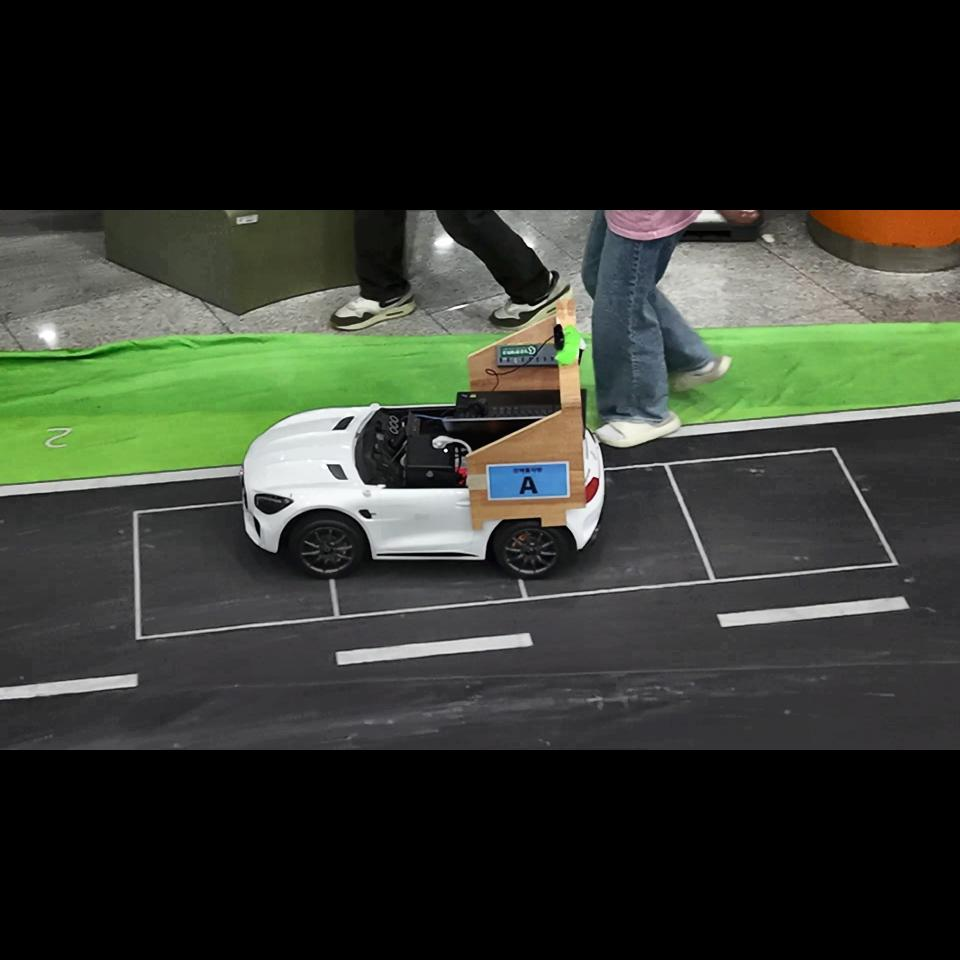broken_line: (335, 632, 534, 666), (716, 596, 911, 628), (0, 673, 139, 700)
